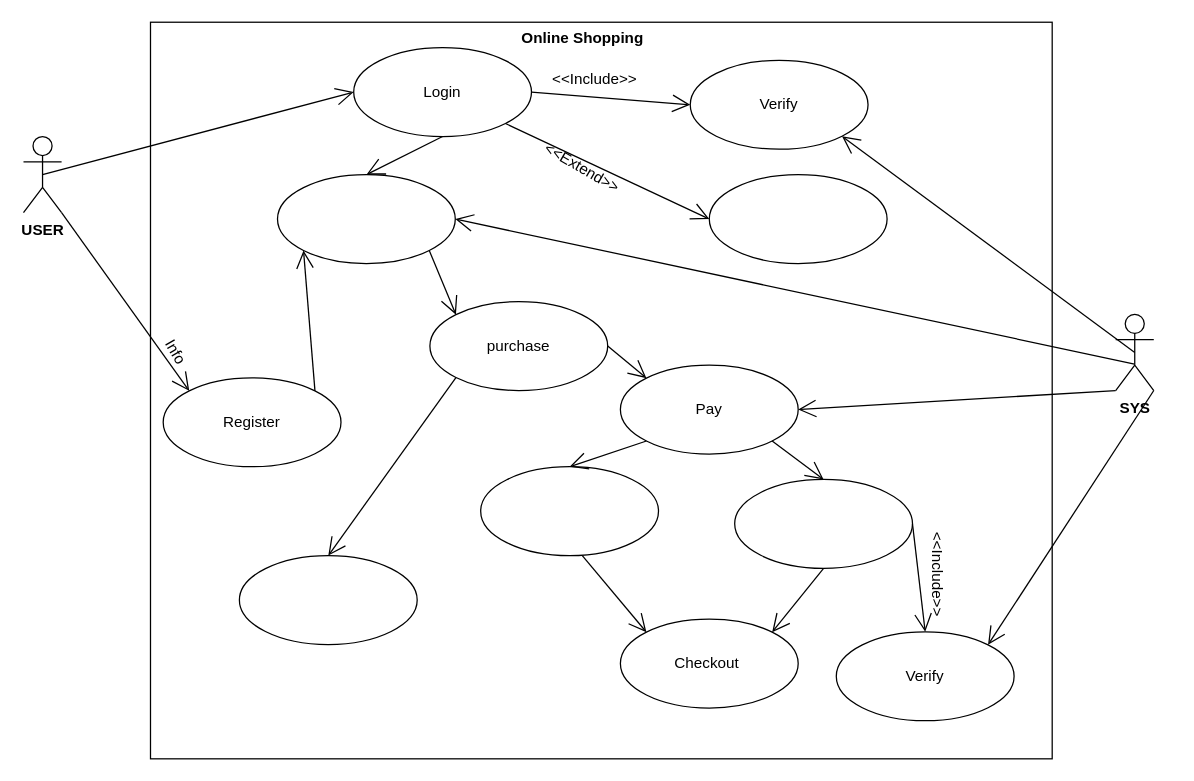
Some shapes in this 1194 by 781 pixel diagram are drawn without their labels. Each missing label, with the centre of its shape:
"Cancel" goes at (x=327, y=599).
"Cash" goes at (x=568, y=510).
"Creidt" goes at (x=822, y=523).
"Exception error" goes at (x=797, y=218).
"View item" goes at (x=365, y=218).
